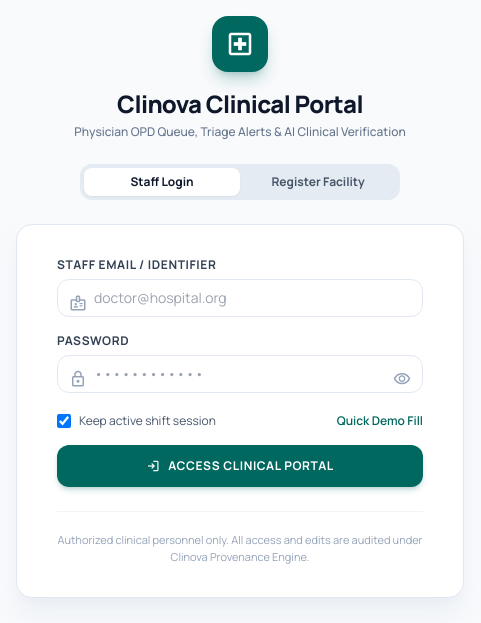
Test: Hospital Staff Authentication › fills quick demo doctor credentials upon clicking Quick Demo Fill
Click the button "Quick Demo Fill" at (380, 421), box [337,413,423,429]
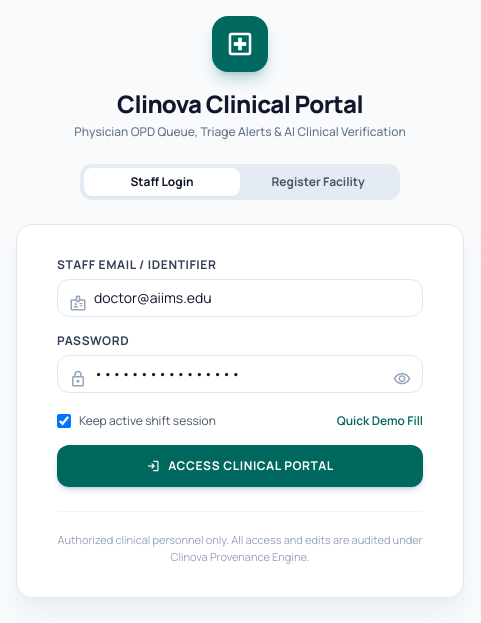
Expected: the field with placeholder "doctor@hospital.org" holds "doctor@aiims.edu", [57,279,423,317]
